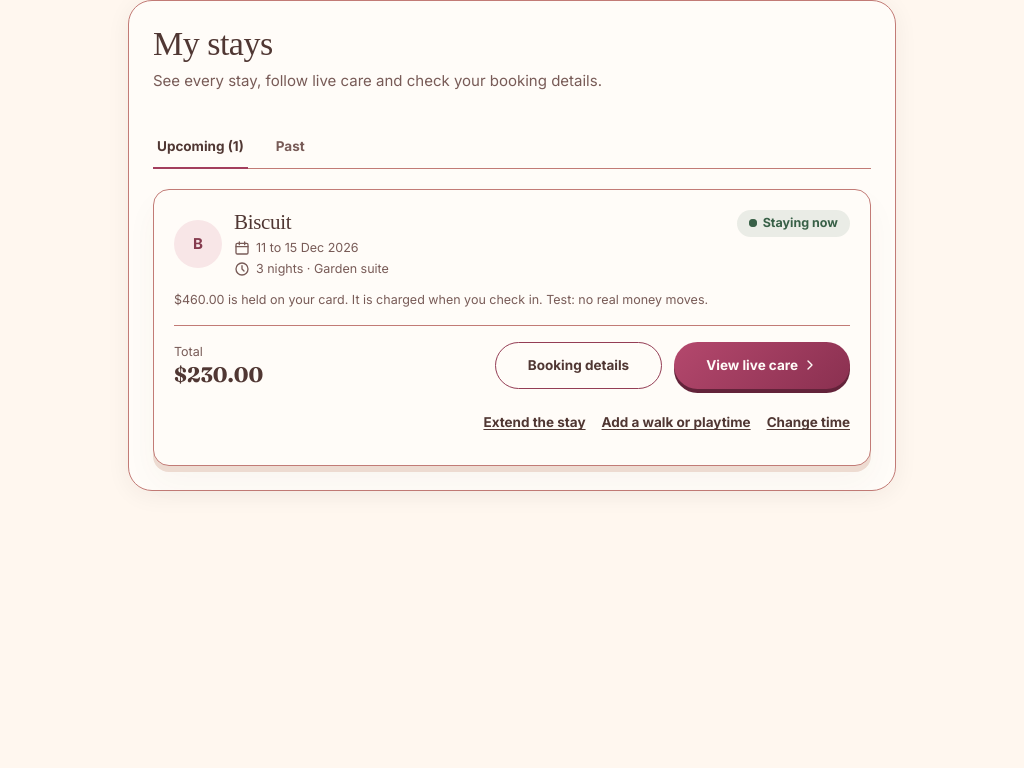
it: changes while the pet is staying › prices the added nights first, then extends at that price and says what was charged
Step 1. Click the button "Extend the stay" → point(534, 423), box [483,401,586,445]
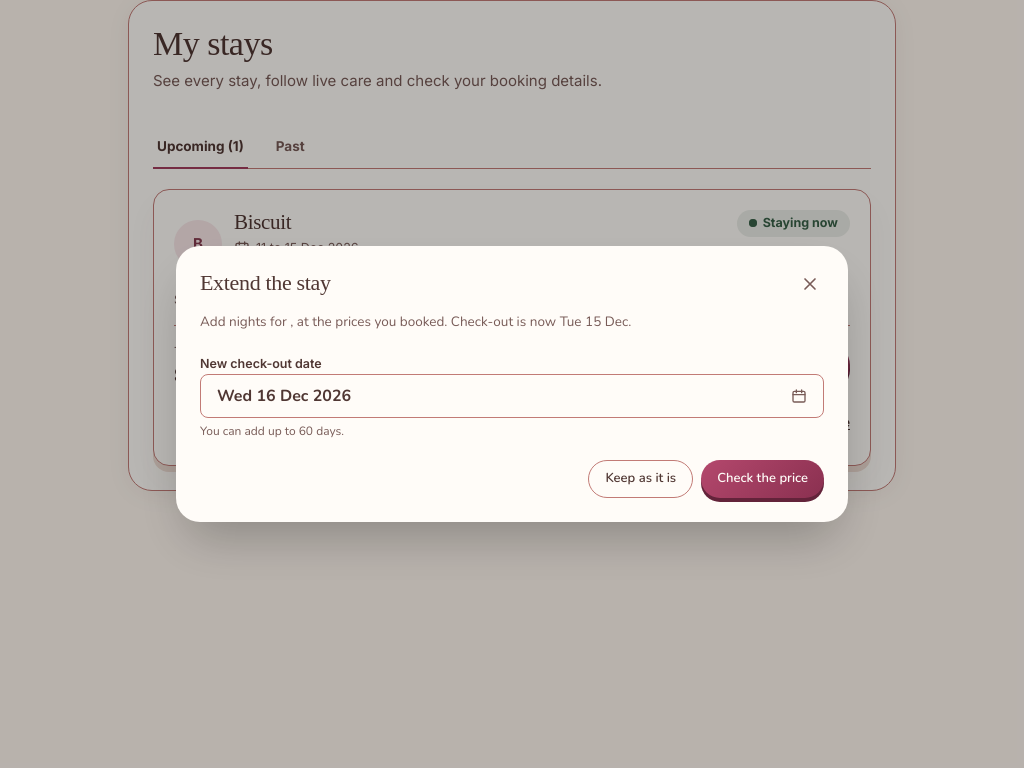
Result: the dialog "Extend the stay" shows "Check-out is now Tue 15 Dec." at [200,312,631,331]
Step 2. Click the button named "New check-out date" → point(284, 396), box [200,374,824,418]
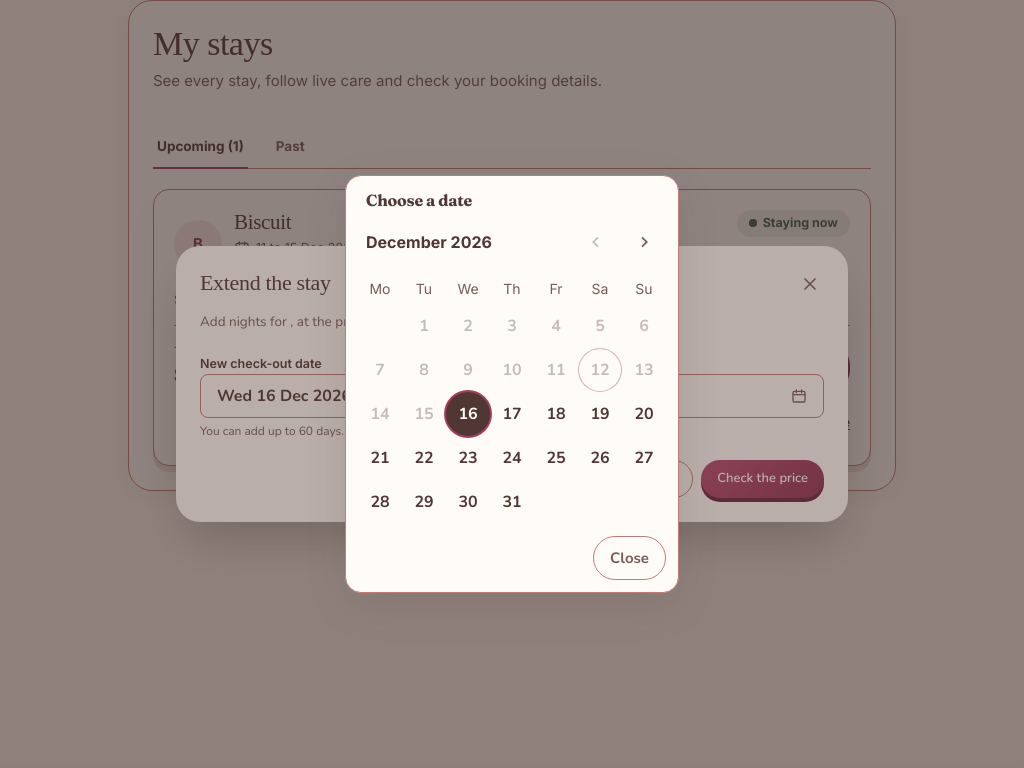
Step 3. Click the button "19" → point(600, 414), box [578,392,622,436]
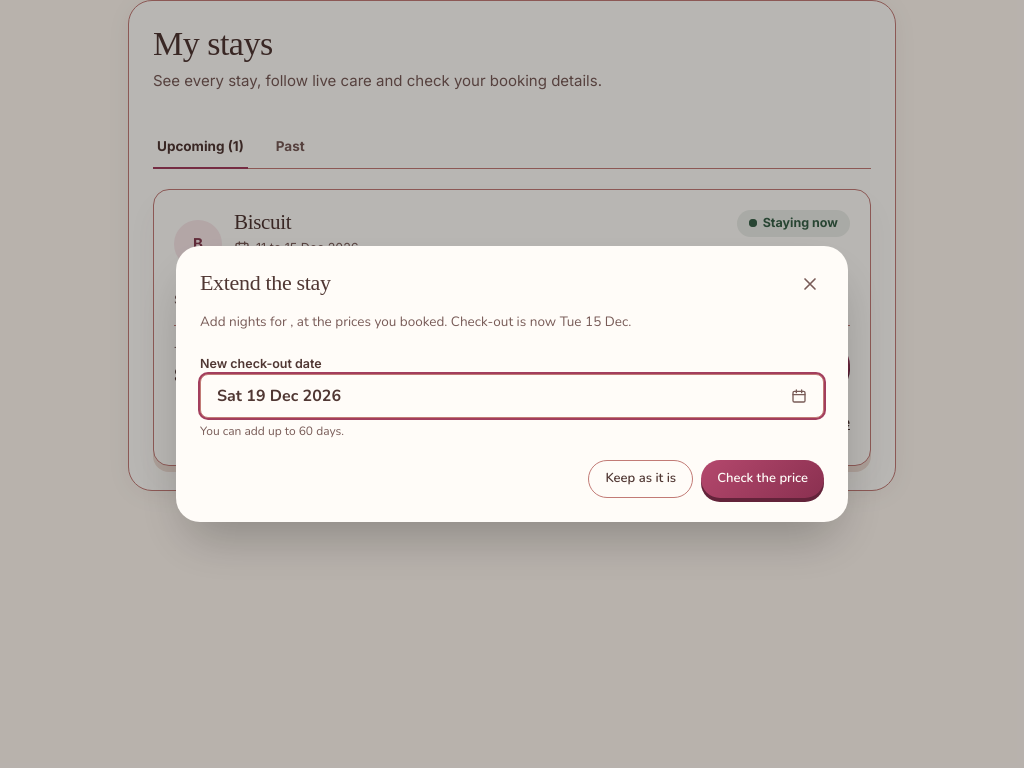
Step 4. Click the button "Check the price" → point(763, 479), box [701,460,824,498]
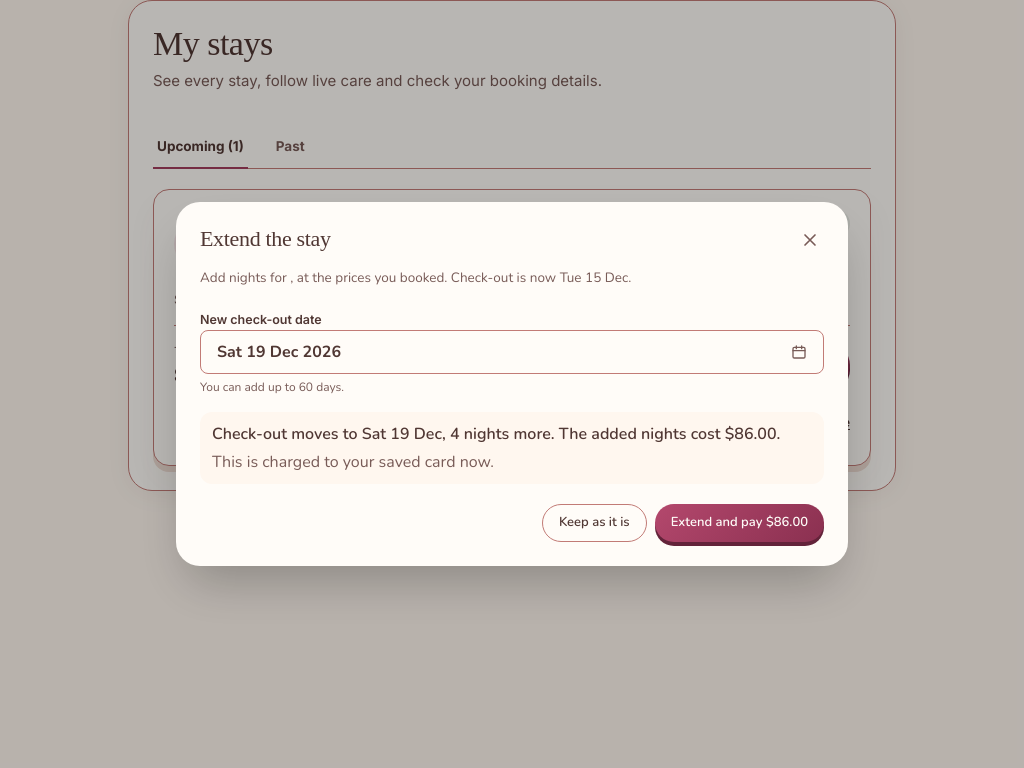
Result: the message shows "Check-out moves to Sat 19 Dec, 4 nights more. The added nights cost $86.00." at [212,423,780,445]
Result: the message shows "This is charged to your saved card now." at [212,451,494,473]
Step 5. Click the button "Extend and pay $86.00" → point(739, 523), box [655,504,824,542]
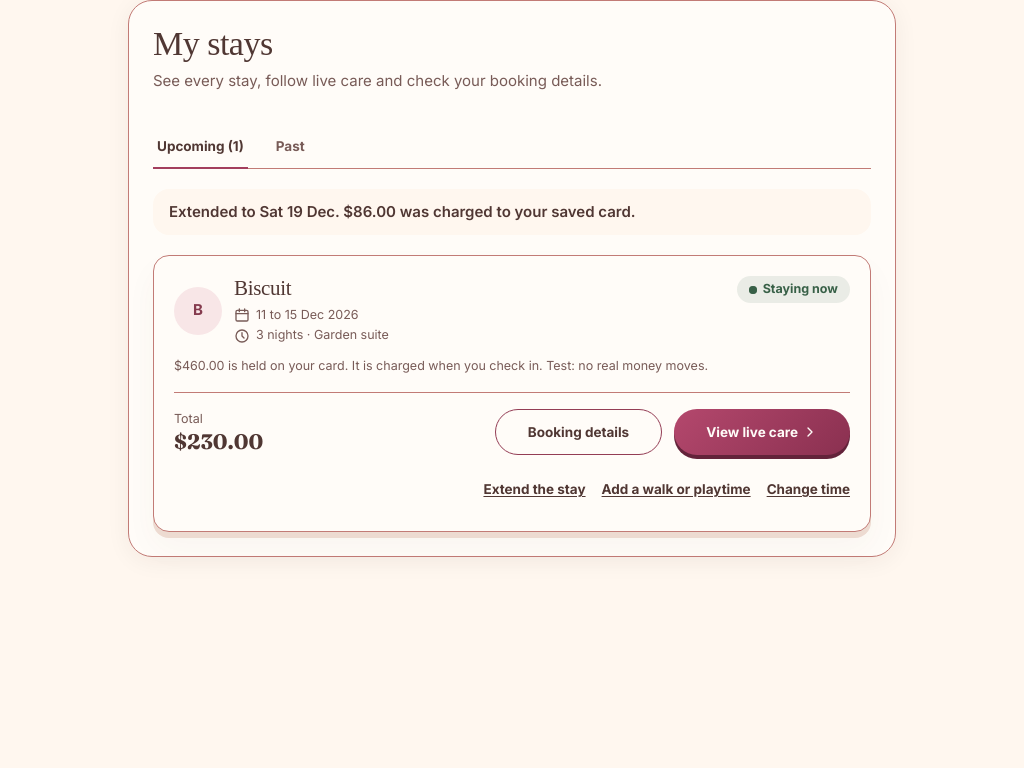
Result: the message reads "Extended to Sat 19 Dec. $86.00 was charged to your saved card." at [169,202,636,221]
